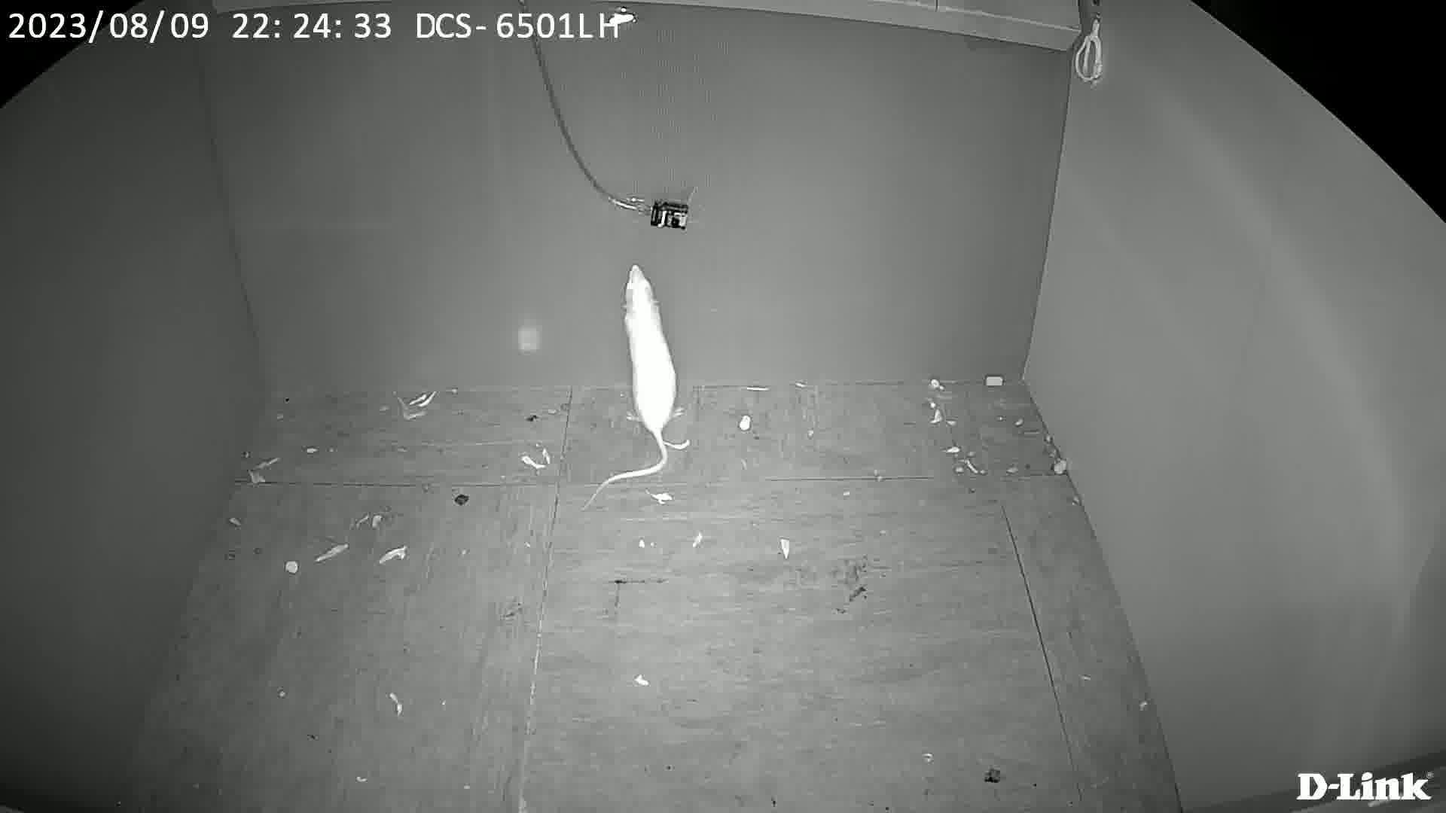rat: (608, 262, 699, 449)
